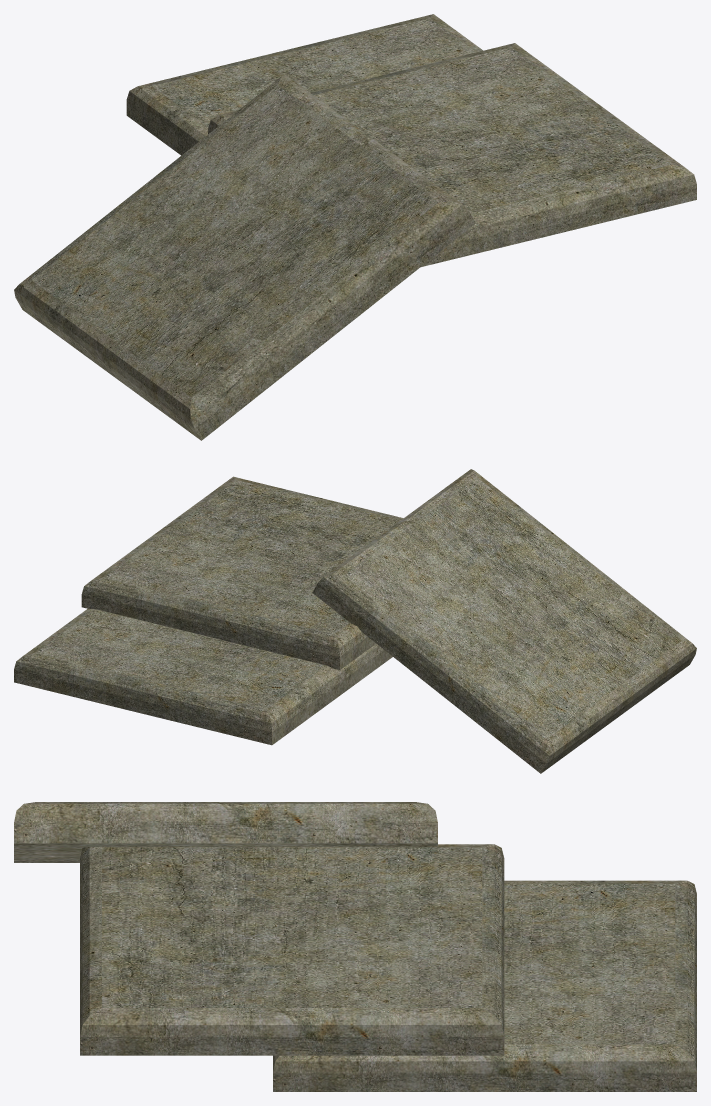
Rendered from StoneTiles3.FBX.
The picture shows the model from 3 angles, top to bottom: view 1: azimuth 30°, elevation 25°; view 2: azimuth 150°, elevation 25°; view 3: azimuth 270°, elevation 25°; orthographic projection. The views are drawn at different scales.
Parts seen in each view (by area): view 1: Box007; view 2: Box007; view 3: Box007.
Part boxes in pixels (box(x1,y1,x2,y2)): Box007: box(14, 14, 696, 440); Box007: box(14, 469, 696, 773); Box007: box(14, 802, 696, 1091).
Size of the model in its own units: 23.49 by 7.34 by 22.01.
